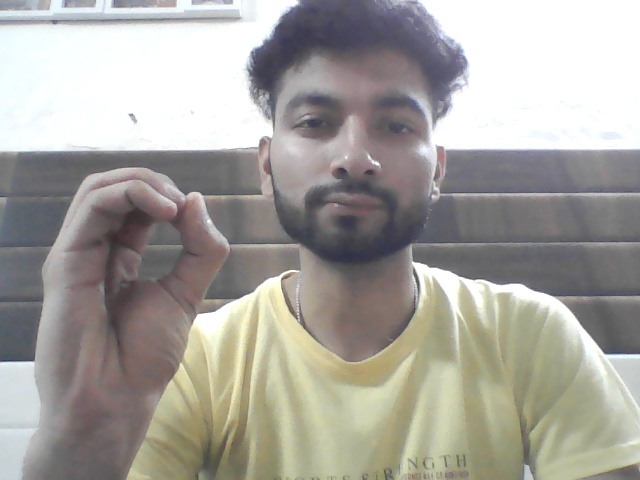No: (32, 144, 233, 423)
